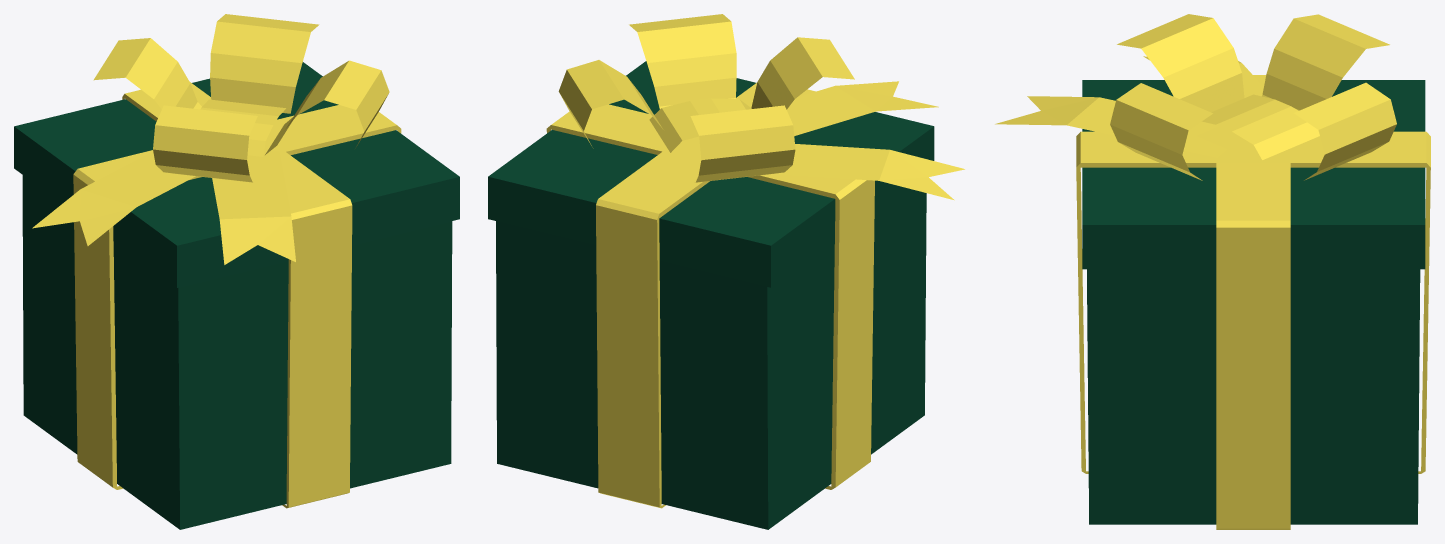
File: new-gift.glb
3 views of the same model, side by side, from view 1: azimuth 30°, elevation 25°; view 2: azimuth 150°, elevation 25°; view 3: azimuth 270°, elevation 25° (orthographic). The views are drawn at different scales.
Parts seen in each view (by area): view 1: Present; view 2: Present; view 3: Present.
Boxes of the visible parts, box(x1,y1,x2,y2) form: Present: box(14, 14, 459, 529); Present: box(488, 14, 964, 529); Present: box(995, 14, 1430, 529).
Bounding box in the file's own units: 0.17 × 0.164 × 0.1649.
Materials: 1 (1 with a texture image).
